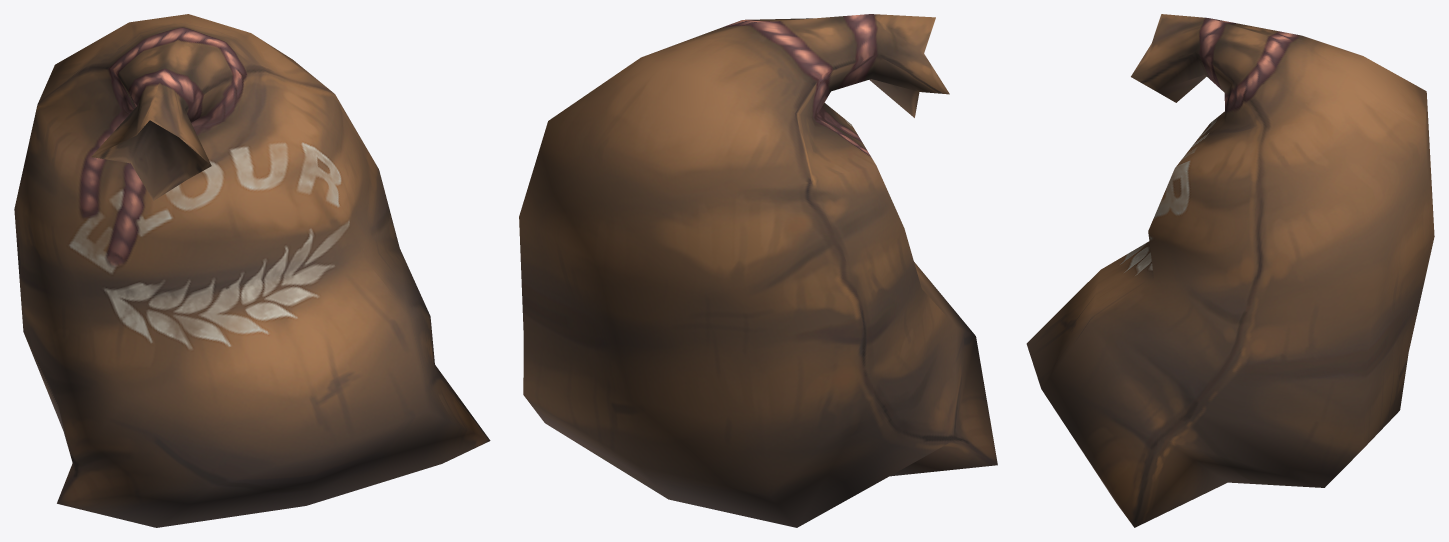
Rendered from sack_of_flour_large1.fbx.
3 views of the same model, side by side, from view 1: azimuth 30°, elevation 25°; view 2: azimuth 150°, elevation 25°; view 3: azimuth 270°, elevation 25° (orthographic). The views are drawn at different scales.
Visible parts, largest first — view 1: sack_of_flour_large1; view 2: sack_of_flour_large1; view 3: sack_of_flour_large1.
Part boxes in pixels (x1,y1,x2,y2): sack_of_flour_large1: [14, 14, 490, 527]; sack_of_flour_large1: [519, 14, 997, 527]; sack_of_flour_large1: [1026, 14, 1434, 527].
Bounding box in the file's own units: 94.01 × 94.01 × 88.45.
